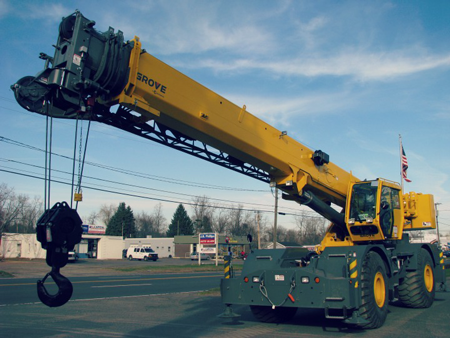crane: (14, 11, 440, 323)
